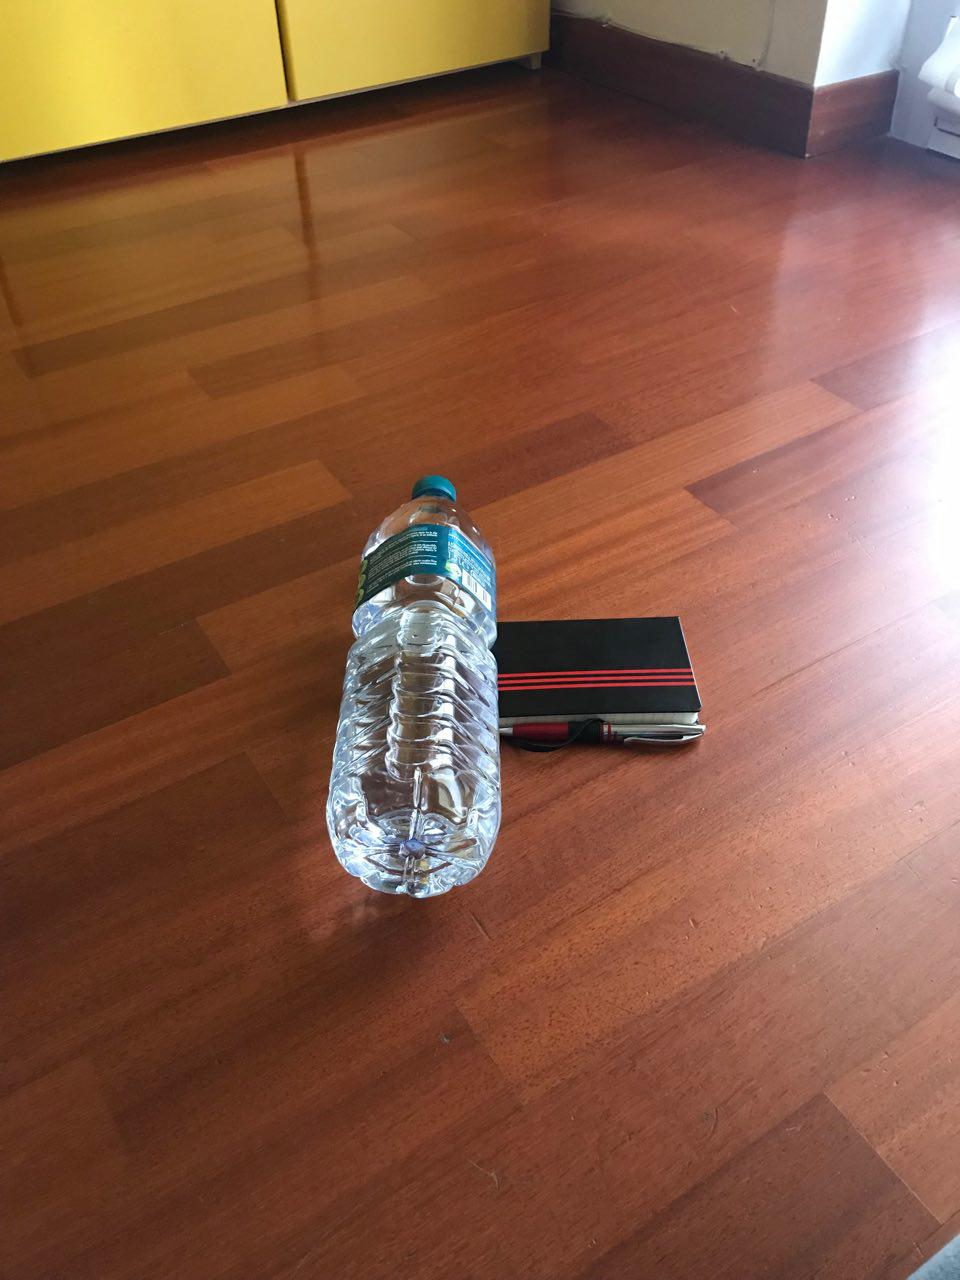san_bernardo: (321, 473, 504, 902)
